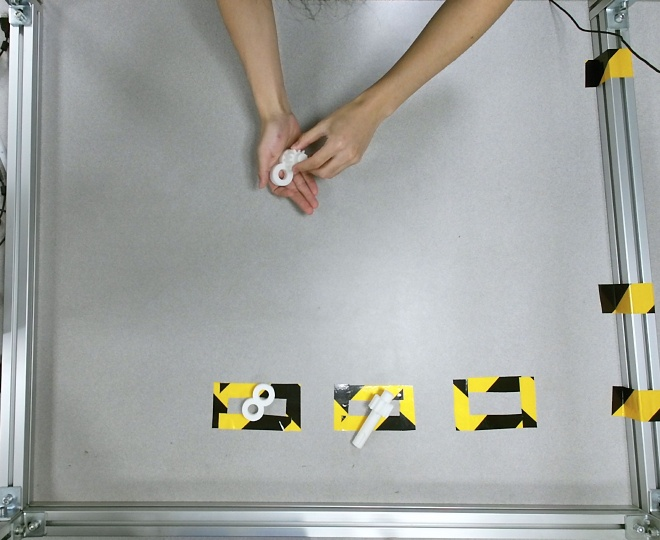stage_2: (269, 148, 307, 186)
